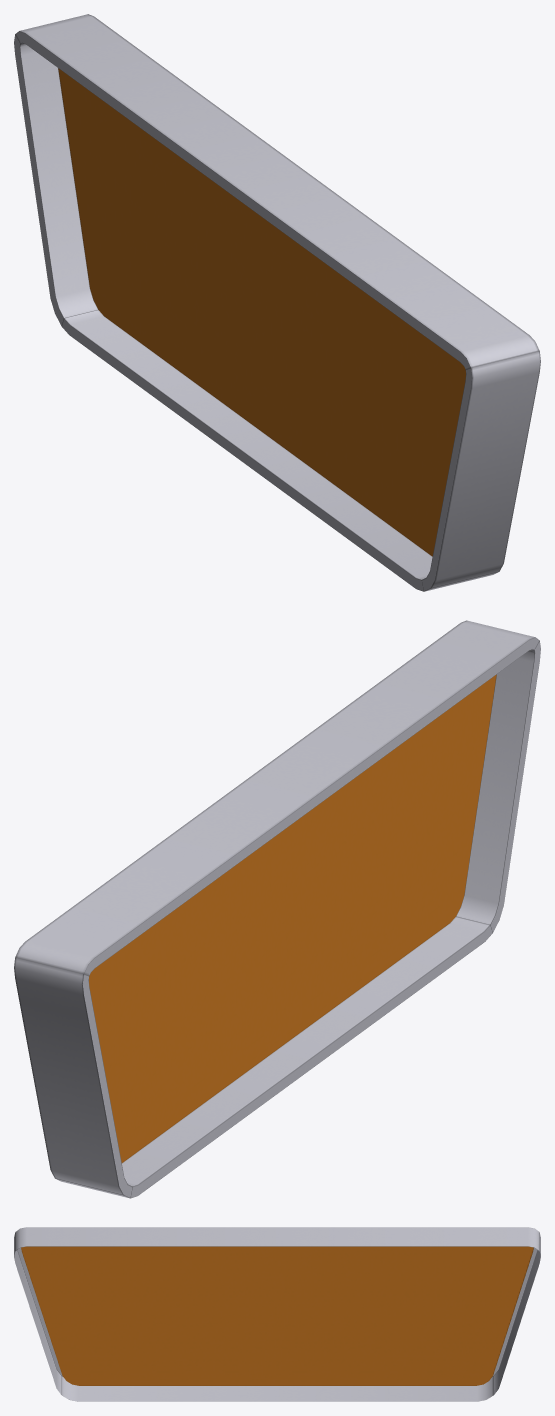
Rendered from Wall_Module_03.FBX.
3 views of the same model, one above another, from view 1: azimuth 30°, elevation 25°; view 2: azimuth 150°, elevation 25°; view 3: azimuth 270°, elevation 25° (orthographic). The views are drawn at different scales.
Visible parts, largest first — view 1: Wall_Module_03; view 2: Wall_Module_03; view 3: Wall_Module_03.
Part boxes in pixels (<box>): Wall_Module_03: <box>14,14,540,591</box>; Wall_Module_03: <box>14,620,540,1198</box>; Wall_Module_03: <box>14,1227,540,1401</box>.
Bounding box in the file's own units: 1 × 3.75 × 11.54.
